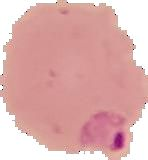parasitized: (76, 102, 135, 155)
